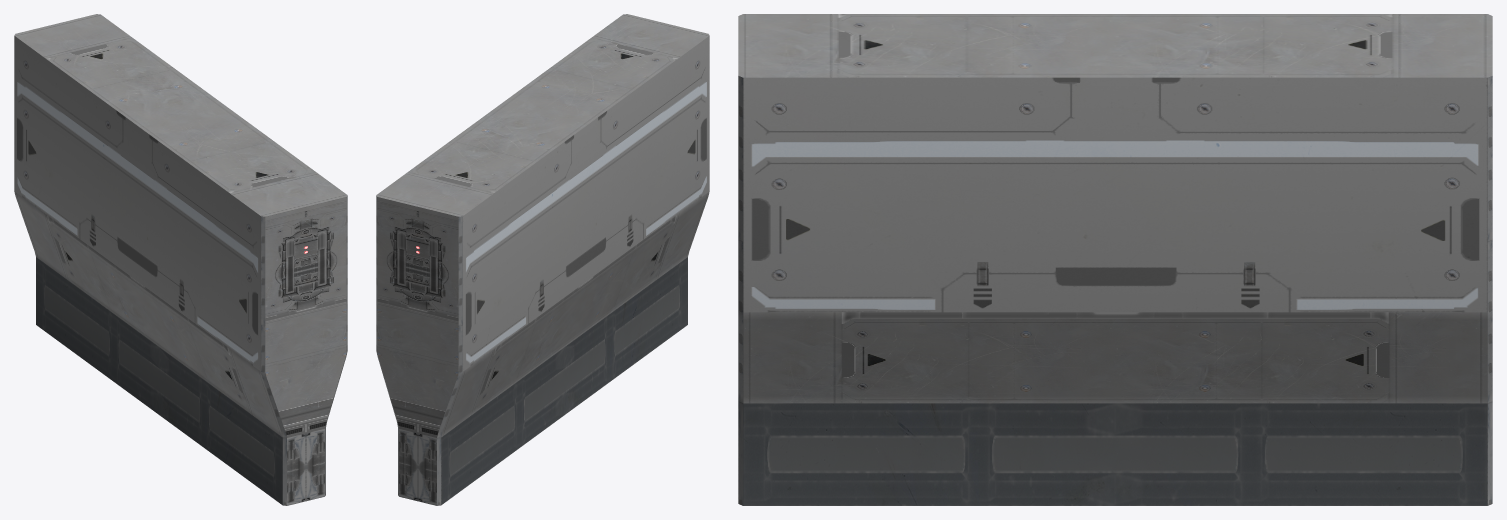
Rendered from SM_Wallup02.fbx.
3 renders of one model, left to right at view 1: azimuth 30°, elevation 25°; view 2: azimuth 150°, elevation 25°; view 3: azimuth 270°, elevation 25°, orthographic. The views are drawn at different scales.
Visible parts, largest first — view 1: SM_Wallup02_LOD0; view 2: SM_Wallup02_LOD0; view 3: SM_Wallup02_LOD0.
Part boxes in pixels (x1,y1,x2,y2): SM_Wallup02_LOD0: (14,14,347,505); SM_Wallup02_LOD0: (376,14,709,505); SM_Wallup02_LOD0: (738,14,1492,505).
Size of the model in its own units: 80 by 400 by 260.
